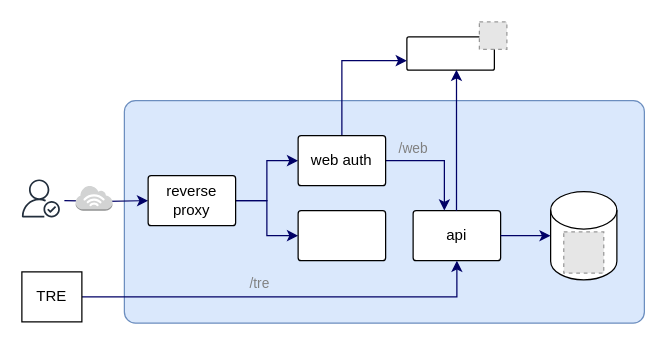
Image size: 666x345. Some labels were removed from this diagram. Grey dashed boxes stand in for pictures. Here are the shapes that lost their labels. From the top down, the centre of each, then its label:
the point at 450,53: Entra ID
the point at 341,235: web frontend
